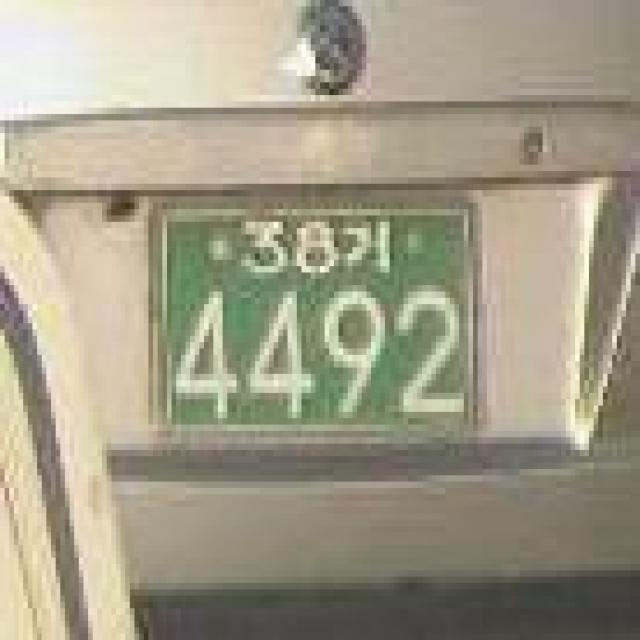illegal_plate: (137, 182, 501, 469)
